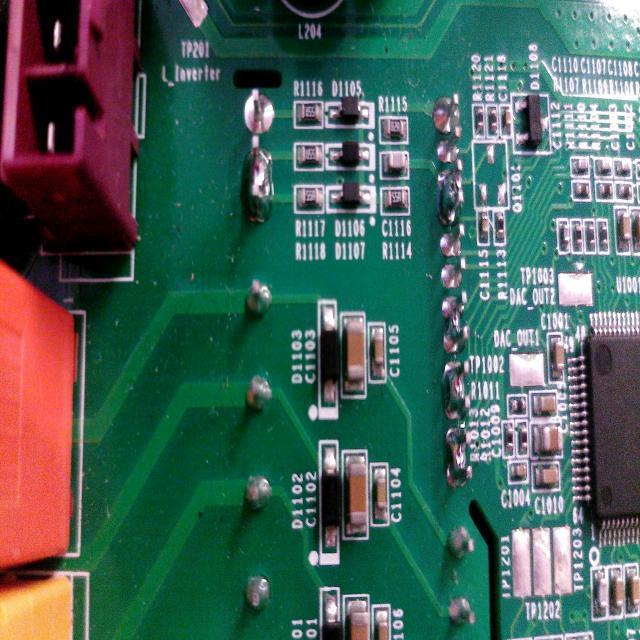Soldering shorted: (238, 134, 276, 226), (431, 157, 469, 227), (436, 290, 474, 358), (444, 425, 475, 492), (442, 358, 474, 422)
